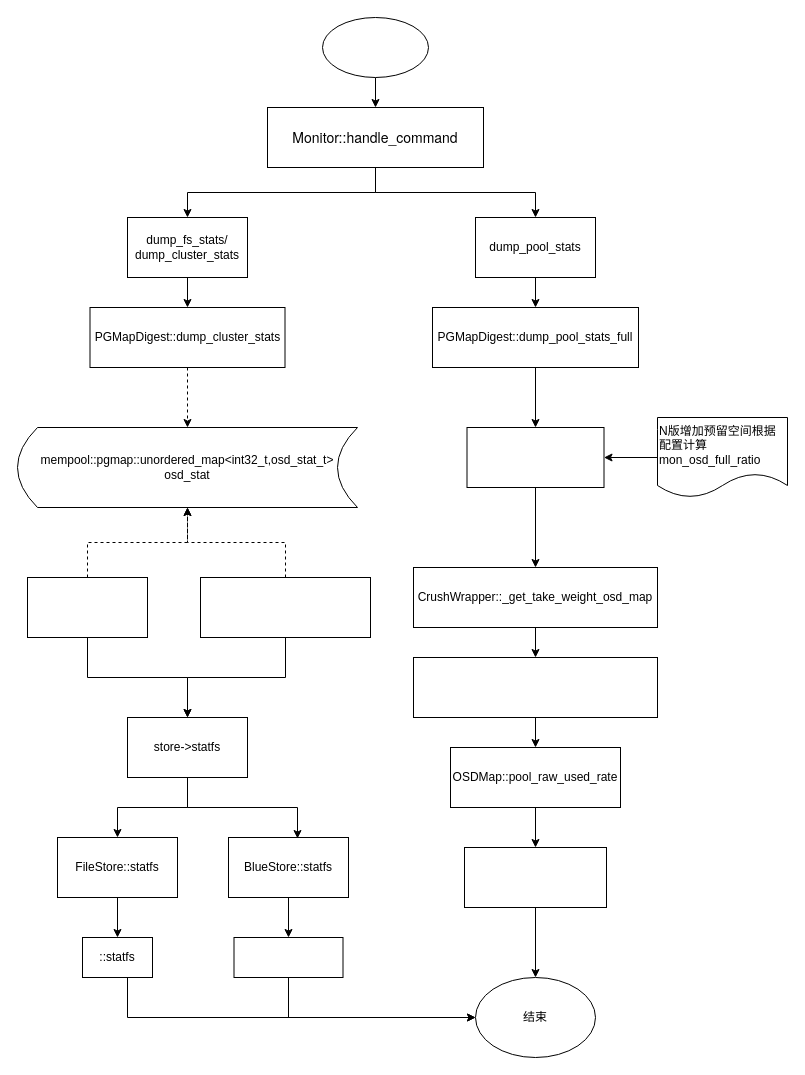
The diagram is 805 pixels wide and 1075 high, and some of its shapes have lost their labels. The centre of each missing label's shape, as x and y in pixels:
"BlueFS->get_free" belongs at pixel 288 957.
"CrushWrapper::_normalize_weight_map" belongs at pixel 535 687.
"dump_object_stat_sum" belongs at pixel 535 877.
"OSD::init" belongs at pixel 87 607.
"OSD::tick_without_osd_lock" belongs at pixel 285 607.
"PGMap::get_rule_avail" belongs at pixel 535 457.
"开始" belongs at pixel 375 47.
